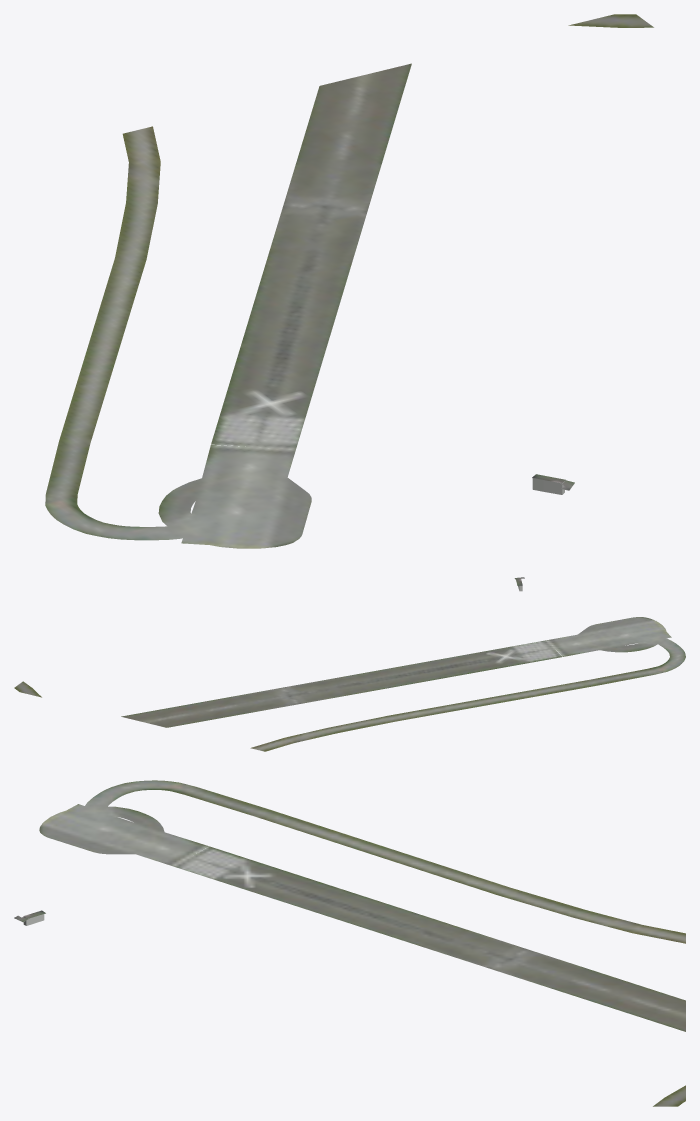
Rendered from LSME_-2_-2.glb.
The picture shows the model from 3 angles, top to bottom: view 1: azimuth 30°, elevation 25°; view 2: azimuth 150°, elevation 25°; view 3: azimuth 270°, elevation 25°; orthographic projection. The views are drawn at different scales.
Visible parts, largest first — view 1: pavement_LSME_pavement_5330_2430, pavement_LSME_pavement_5329_2430; view 2: pavement_LSME_pavement_5330_2430, pavement_LSME_pavement_5329_2430; view 3: pavement_LSME_pavement_5330_2430, pavement_LSME_pavement_5329_2430.
Part boxes in pixels (<box>): pavement_LSME_pavement_5330_2430: <box>49,14,653,548</box>; pavement_LSME_pavement_5329_2430: <box>45,480,130,539</box>; pavement_LSME_pavement_5330_2430: <box>14,617,680,751</box>; pavement_LSME_pavement_5329_2430: <box>640,647,685,677</box>; pavement_LSME_pavement_5330_2430: <box>39,792,685,1106</box>; pavement_LSME_pavement_5329_2430: <box>101,780,214,792</box>.
Bounding box in the file's own units: 519 × 6.18 × 454.
Materials: 3 (2 with a texture image).
